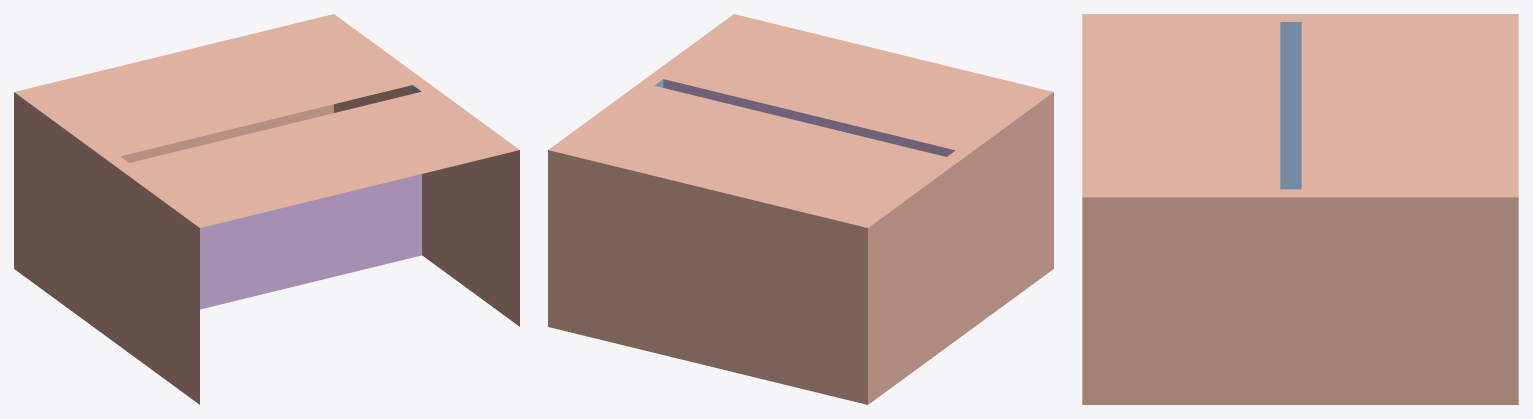
3 renders of one model, left to right at view 1: azimuth 30°, elevation 25°; view 2: azimuth 150°, elevation 25°; view 3: azimuth 270°, elevation 25°, orthographic. The views are drawn at different scales.
Visible parts, largest first — view 1: Object40; view 2: Object40; view 3: Object40.
Boxes of the visible parts, x1,y1,x2,y2 form: Object40: (14, 14, 519, 404); Object40: (548, 14, 1053, 404); Object40: (1082, 14, 1518, 404).
Bounding box in the file's own units: 9938 × 5250 × 10000.
